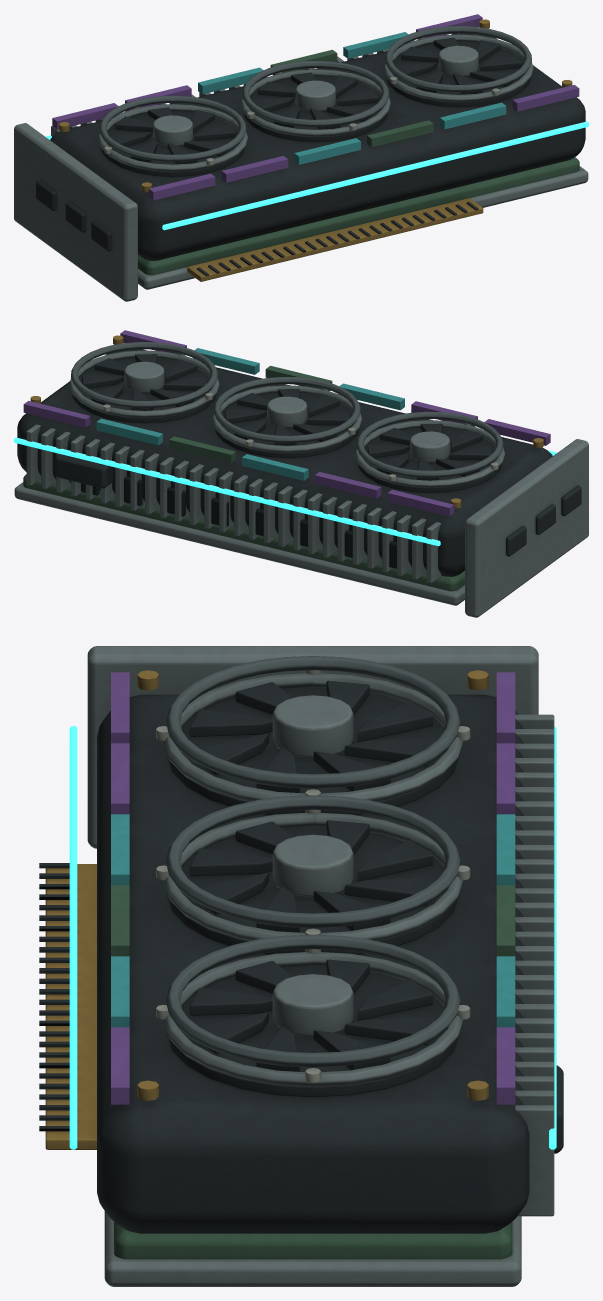
Rendered from graphics_card.glb.
3 renders of one model, top to bottom at view 1: azimuth 30°, elevation 25°; view 2: azimuth 150°, elevation 25°; view 3: azimuth 270°, elevation 25°, orthographic. The views are drawn at different scales.
Visible parts, largest first — view 1: graphics_card_static_0, Continuous GPU light guide; view 2: graphics_card_static_0, Continuous GPU light guide.001; view 3: graphics_card_static_0, Continuous GPU light guide, Continuous GPU light guide.001.
Part boxes in pixels (x1,y1,x2,y2): graphics_card_static_0: [14, 14, 588, 301]; Continuous GPU light guide: [162, 121, 588, 230]; graphics_card_static_0: [14, 330, 588, 617]; Continuous GPU light guide.001: [14, 437, 440, 546]; graphics_card_static_0: [39, 646, 563, 1286]; Continuous GPU light guide: [69, 726, 77, 1149]; Continuous GPU light guide.001: [549, 726, 556, 1149].
Bounding box in the file's own units: 0.354 × 0.081 × 0.1685.
Materials: 2 (1 with a texture image).
